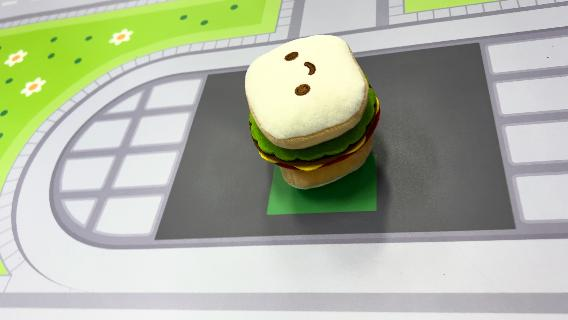sandwich: (242, 31, 384, 190)
